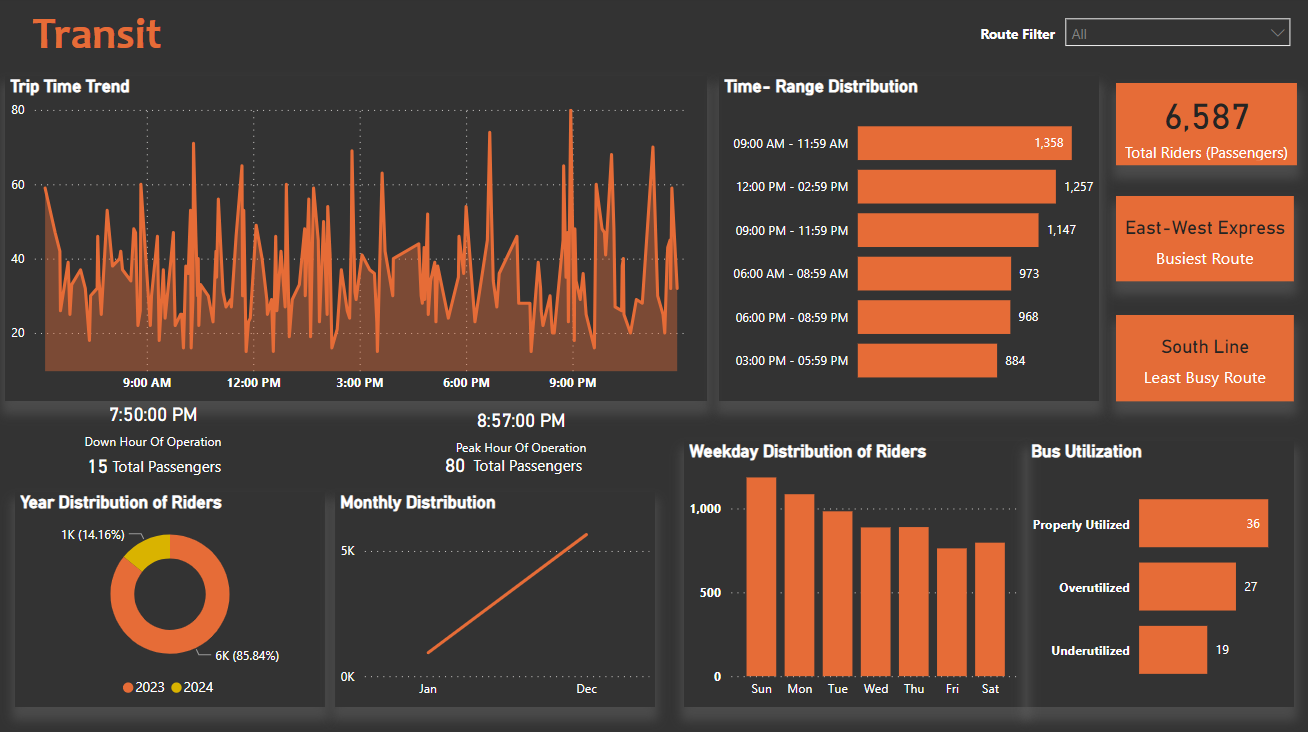

The dashboard page shown, as its layout file describes it:
{"tool":"powerbi","page":{"name":"Page 1","canvas":[1280,720],"ordinal":0},"visuals":[{"type":"card","fields":{"Values":["Calculations.Busiest Route"]},"box":[1088.4,193.6,173.1,82.7],"z":0},{"type":"card","fields":{"Values":["Calculations.Least Busy Route"]},"box":[1088.4,309.3,173.1,83.6],"z":1000},{"type":"clusteredBarChart","title":"Time- Range Distribution","fields":{"Category":["FactTable_ridership.TimeGroup"],"Y":["Calculations.Total Riders (Passengers)"]},"box":[702.2,76.8,369.6,316.1],"z":2000},{"type":"areaChart","title":"Trip Time Trend","fields":{"Category":["FactTable_ridership.Time"],"Y":["Calculations.Total Riders (Passengers)"]},"box":[7.8,76.8,682.8,316.1],"z":3000},{"type":"card","fields":{"Values":["Calculations.Peak Hour Of Operation"]},"box":[405.6,392.9,208.1,55.4],"z":4000},{"type":"card","fields":{"Values":["Calculations.Down Hour Of Operation"]},"box":[46.7,384.2,210.1,61.3],"z":5000},{"type":"card","fields":{"Values":["Calculations.V Down Hour Of Operation"]},"box":[17.5,431.9,160.5,49.6],"z":6000},{"type":"card","fields":{"Values":["Calculations.V Peak Hour Of Operation"]},"box":[369.6,430.9,151.7,50.6],"z":7000},{"type":"clusteredBarChart","title":"Bus Utilization","fields":{"Category":["FactTable_ridership.Bus Utilization"],"Y":["Calculations.Total Buses"]},"box":[1000.9,431.9,260.7,258.7],"z":8000},{"type":"clusteredColumnChart","title":"Weekday Distribution of Riders","fields":{"Y":["Calculations.Total Riders (Passengers)"],"Category":["Date.Weekday"]},"box":[668.2,431.9,332.6,258.7],"z":9000},{"type":"lineChart","title":"Monthly Distribution","fields":{"Y":["Calculations.Total Riders (Passengers)"],"Category":["Date.Month"]},"box":[328.8,481.5,311.2,209.1],"z":10000},{"type":"donutChart","title":"Year Distribution of Riders","fields":{"Category":["Date.Year"],"Y":["Calculations.Total Riders (Passengers)"]},"box":[17.5,481.5,301.5,209.1],"z":10001},{"type":"textbox","box":[107,440.6,124.5,34],"z":10002},{"type":"textbox","box":[458.1,439.6,126.4,36],"z":10003},{"type":"textbox","box":[29.2,3.9,148.8,72.9],"z":10004},{"type":"slicer","fields":{"Values":["Lookup_Routes.RouteName"]},"box":[1029.1,10.7,239.3,43.8],"z":10005},{"type":"textbox","box":[951.2,21.4,99.2,33.1],"z":10006},{"type":"card","fields":{"Values":["Calculations.Total Riders (Passengers)"]},"box":[1088.4,83.6,176,79.8],"z":10007}]}

Visuals, with their boxes in screenshot pixels (x1, y1, x2, y2), scaled from the page's 1280x720 canvas onto the 1308x732 screenshot:
card - Calculations.Busiest Route: [left=1112, top=197, right=1289, bottom=281]
card - Calculations.Least Busy Route: [left=1112, top=314, right=1289, bottom=399]
"Time- Range Distribution" clusteredBarChart: [left=718, top=78, right=1095, bottom=399]
"Trip Time Trend" areaChart: [left=8, top=78, right=706, bottom=399]
card - Calculations.Peak Hour Of Operation: [left=414, top=399, right=627, bottom=456]
card - Calculations.Down Hour Of Operation: [left=48, top=391, right=262, bottom=453]
card - Calculations.V Down Hour Of Operation: [left=18, top=439, right=182, bottom=490]
card - Calculations.V Peak Hour Of Operation: [left=378, top=438, right=533, bottom=490]
"Bus Utilization" clusteredBarChart: [left=1023, top=439, right=1289, bottom=702]
"Weekday Distribution of Riders" clusteredColumnChart: [left=683, top=439, right=1023, bottom=702]
"Monthly Distribution" lineChart: [left=336, top=490, right=654, bottom=702]
"Year Distribution of Riders" donutChart: [left=18, top=490, right=326, bottom=702]
textbox: [left=109, top=448, right=237, bottom=483]
textbox: [left=468, top=447, right=597, bottom=484]
textbox: [left=30, top=4, right=182, bottom=78]
slicer - Lookup_Routes.RouteName: [left=1052, top=11, right=1296, bottom=55]
textbox: [left=972, top=22, right=1073, bottom=55]
card - Calculations.Total Riders (Passengers): [left=1112, top=85, right=1292, bottom=166]
